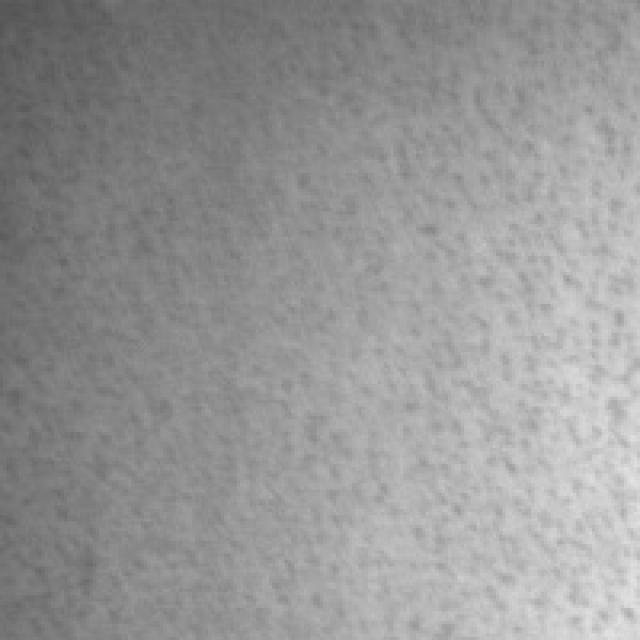pitted_surface: (326, 6, 637, 621), (10, 6, 156, 624)
